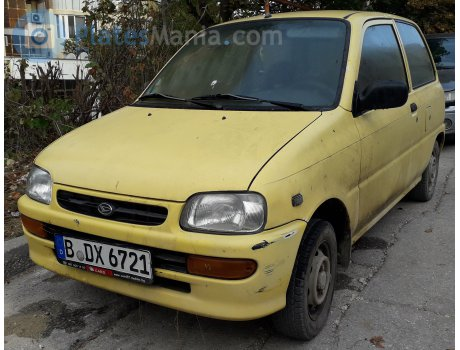License Plates: (52, 235, 153, 274)
